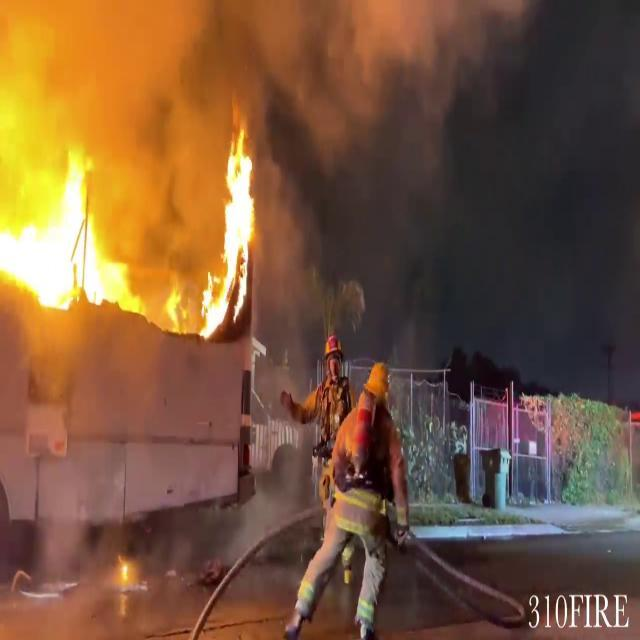Fire: (3, 144, 132, 320), (182, 120, 270, 333)
Smoke: (0, 0, 480, 183)
